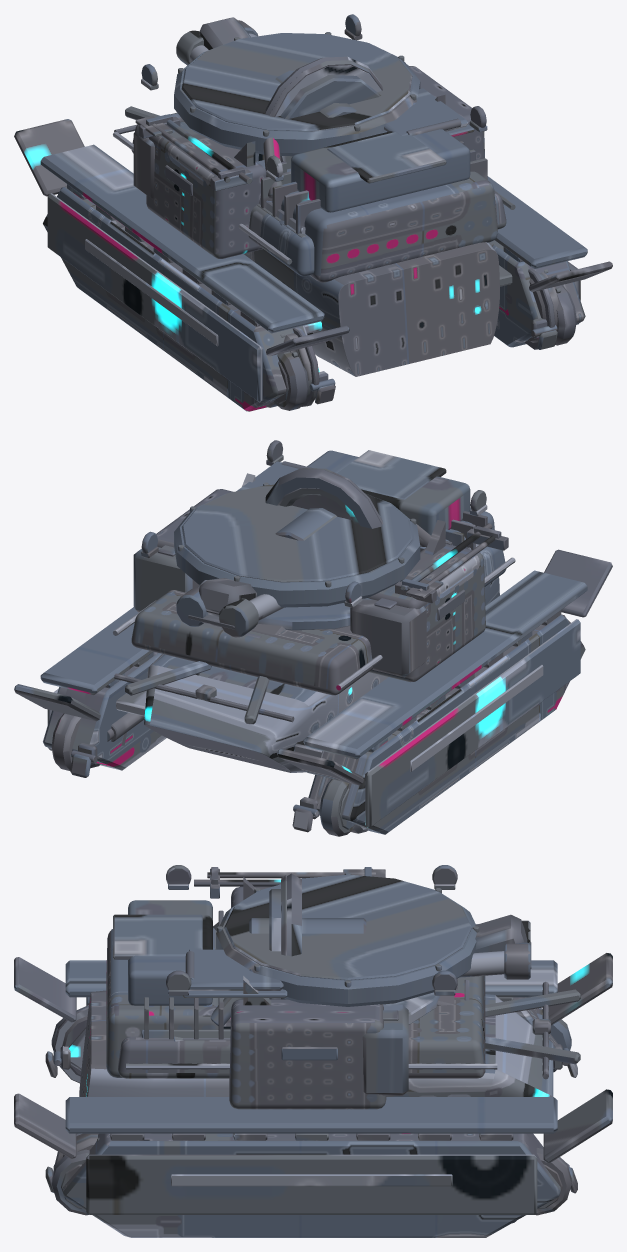
Rendered from SurgeArcTank_Atlas.fbx.
3 renders of one model, top to bottom at view 1: azimuth 30°, elevation 25°; view 2: azimuth 150°, elevation 25°; view 3: azimuth 270°, elevation 25°, orthographic. The views are drawn at different scales.
Parts seen in each view (by area): view 1: SurgeArcTank_UnifiedMesh; view 2: SurgeArcTank_UnifiedMesh; view 3: SurgeArcTank_UnifiedMesh.
Part boxes in pixels (bbox=[...]): SurgeArcTank_UnifiedMesh: bbox=[14, 14, 612, 411]; SurgeArcTank_UnifiedMesh: bbox=[14, 440, 612, 836]; SurgeArcTank_UnifiedMesh: bbox=[14, 865, 612, 1237].
Bounding box in the file's own units: 199 × 152 × 297.
1 material, 1 textured.
